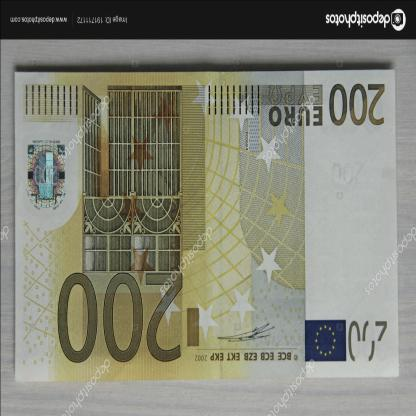euro_banknote: (14, 71, 399, 382)
